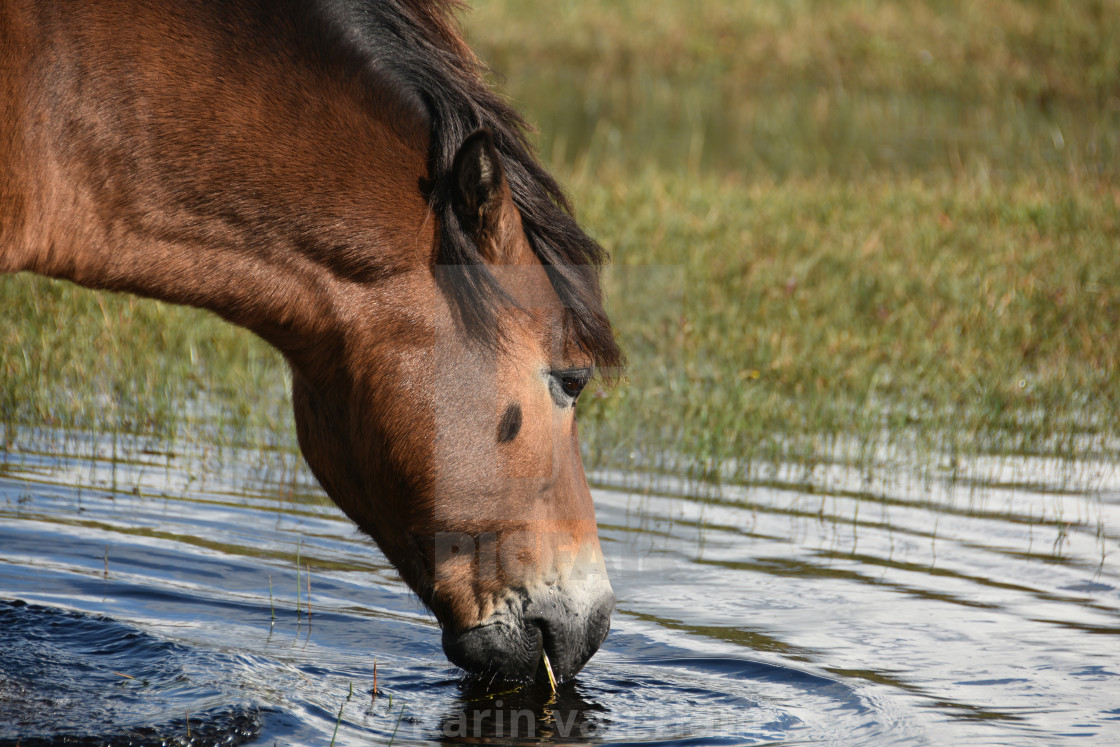Horse: (17, 37, 654, 704)
